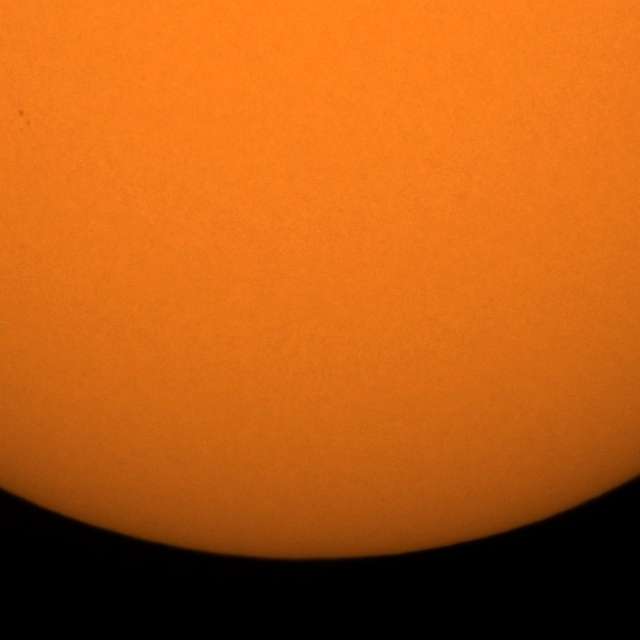sunspot: (17, 108, 31, 126), (17, 109, 25, 118)
